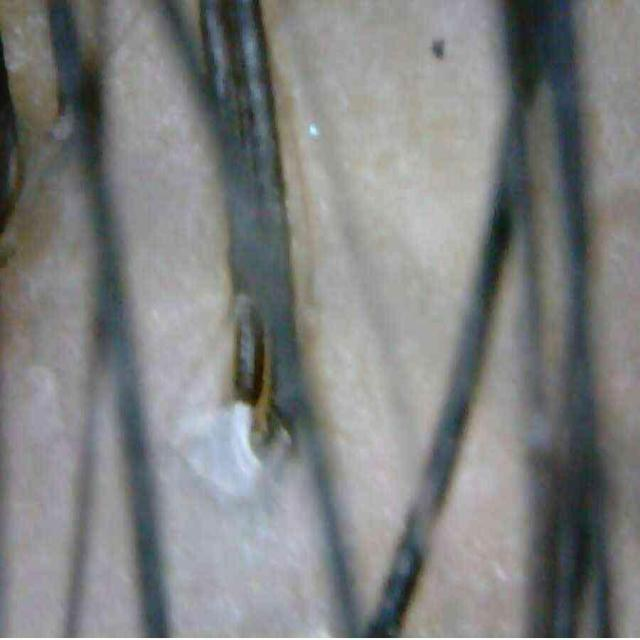d: (175, 402, 261, 501)
